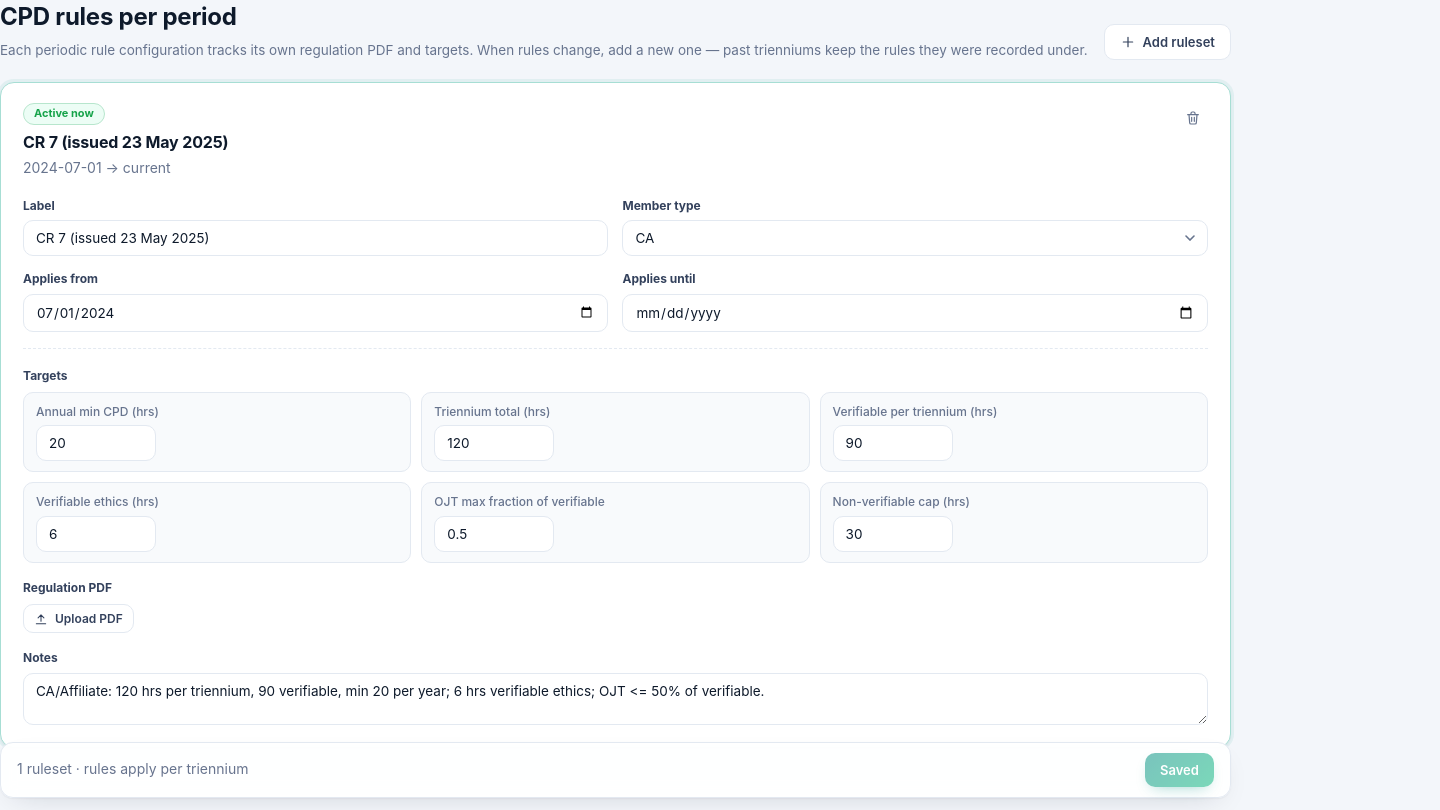
Test case: CPD Hours and administration › edits rule targets and protects a ruleset attached to a triennium
Step 1. Click the button titled "Delete ruleset" → x=1193, y=118, box x1=1178 y1=103 x2=1208 y2=133
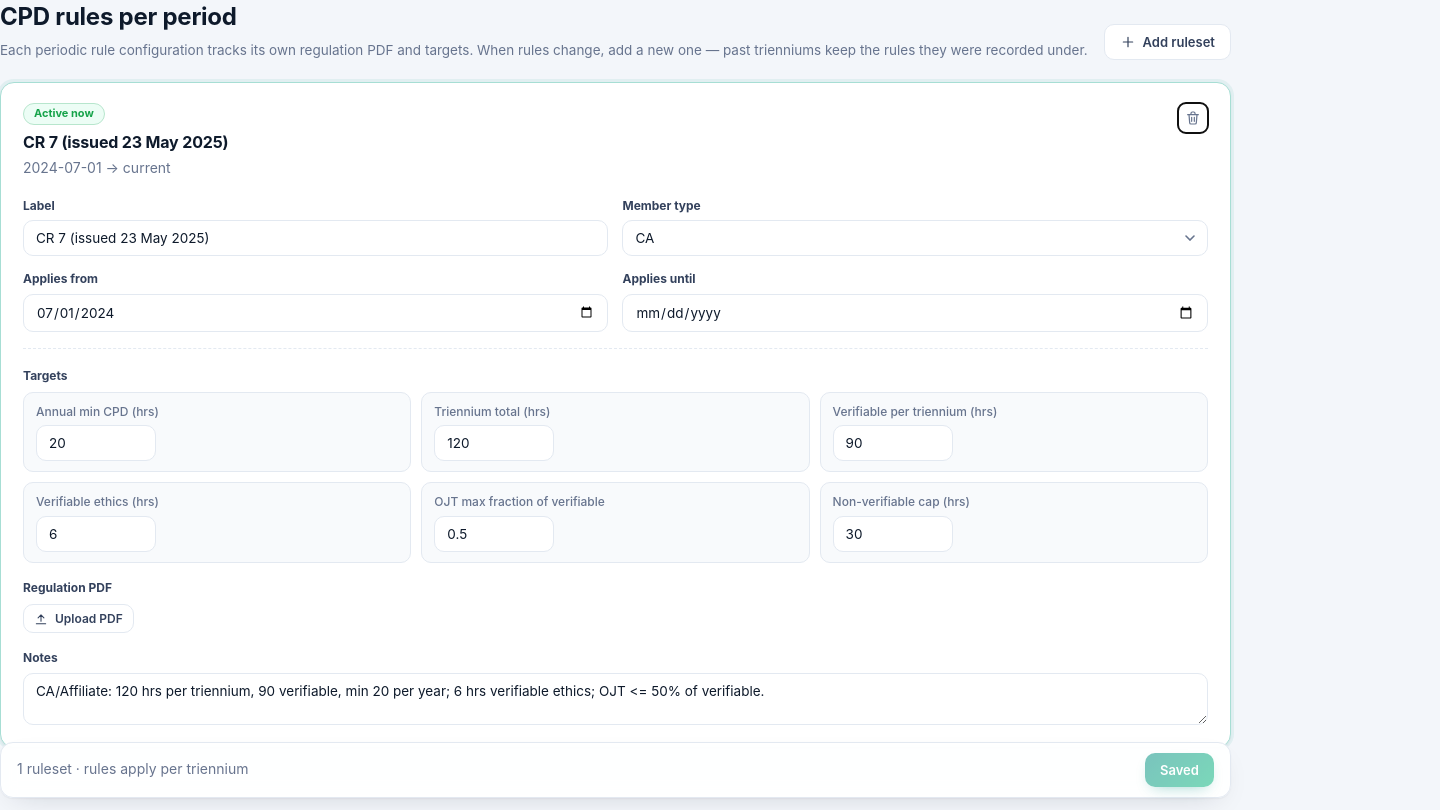
Step 2. Replace the text in the number field labelled "Annual min CPD (hrs)" with "25" → x=96, y=443, box x1=36 y1=425 x2=156 y2=461
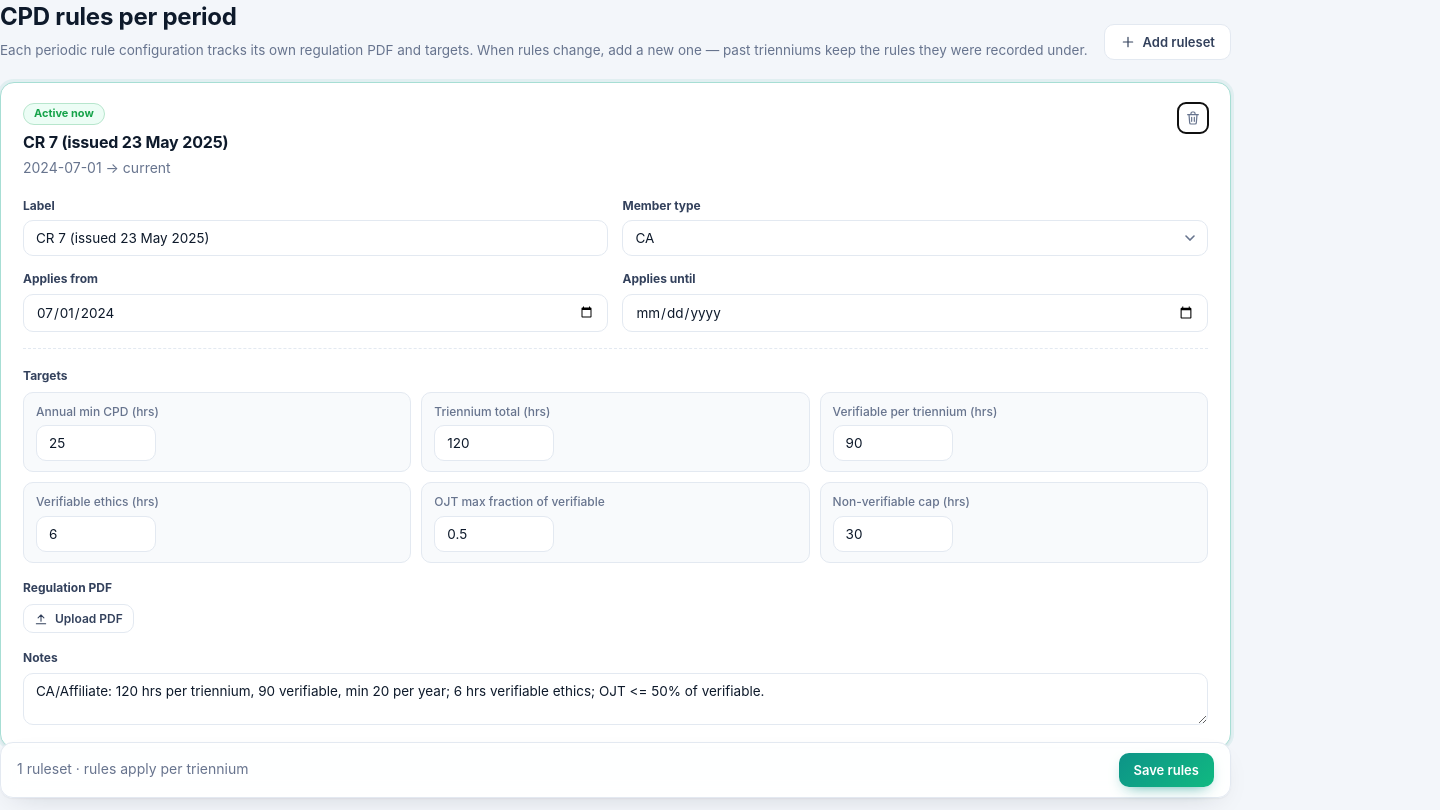
Step 3. Click the button "Save rules" → x=1166, y=770, box x1=1118 y1=753 x2=1214 y2=787
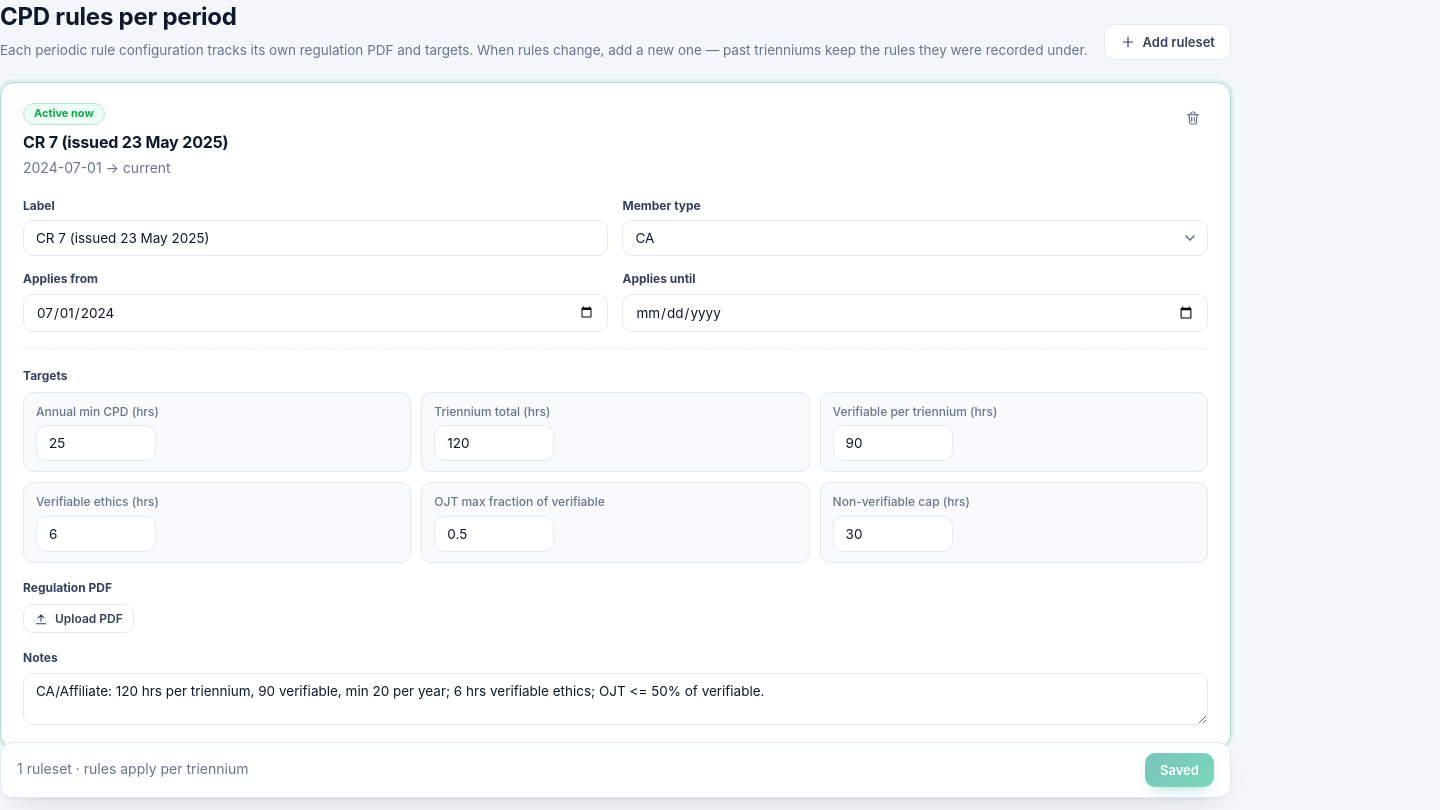
Step 4. Click the button "Add ruleset" → x=1167, y=42, box x1=1104 y1=24 x2=1231 y2=60
(page scrolled)
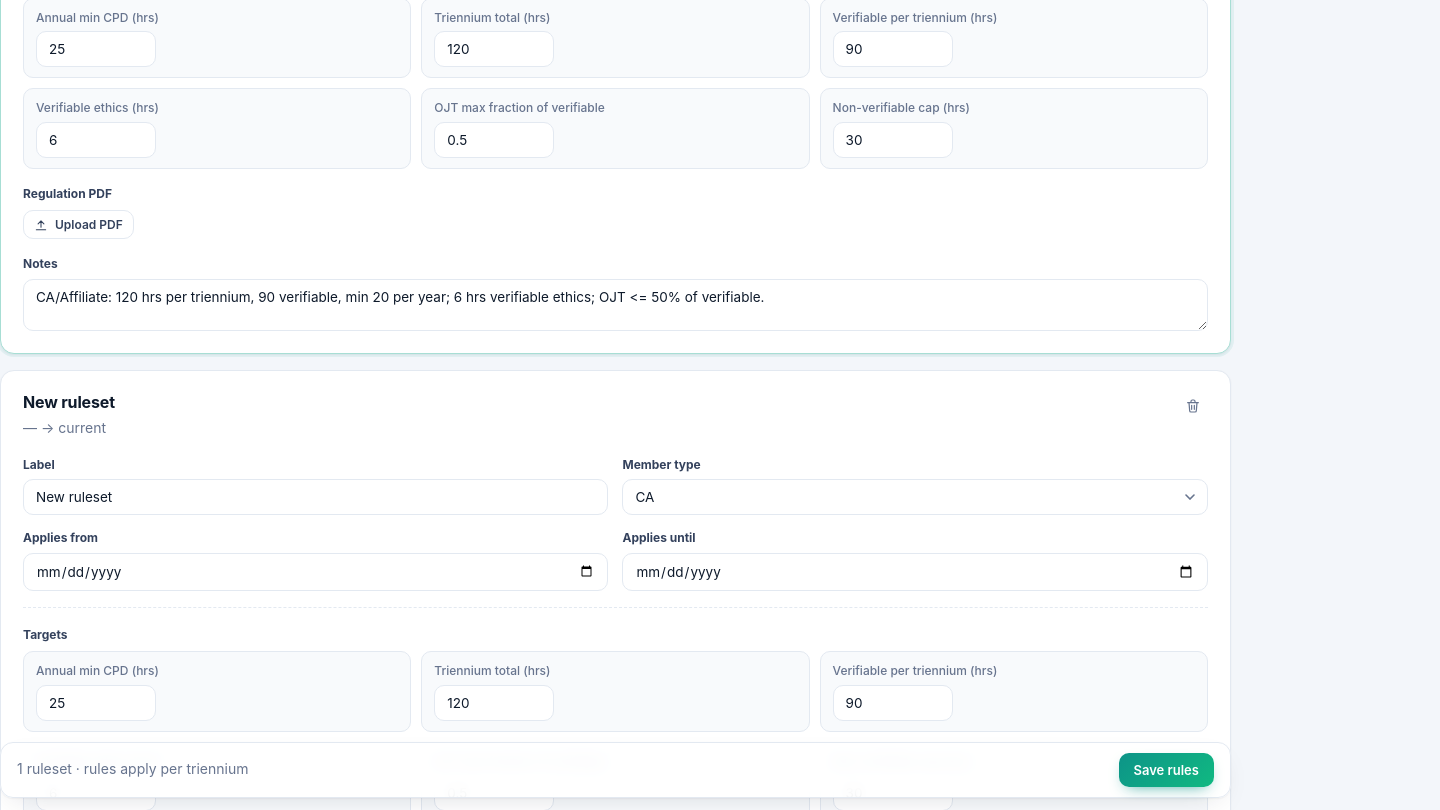
Expected: the heading "New ruleset" is shown, x1=23 y1=390 x2=115 y2=414
Step 5. Click the button titled "Delete ruleset" → x=1193, y=406, box x1=1178 y1=390 x2=1208 y2=420
(page scrolled)
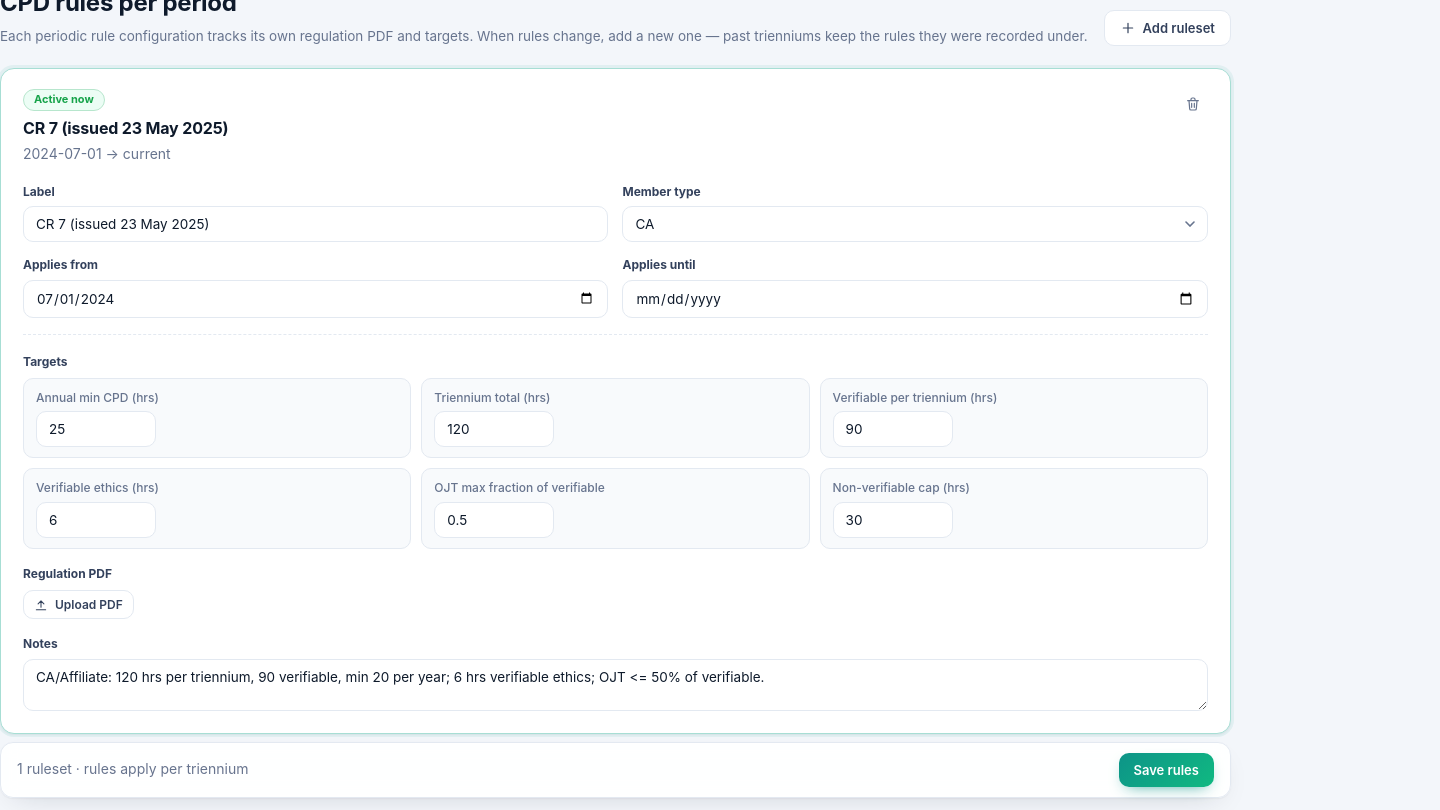
Expected: the heading "New ruleset" is gone
